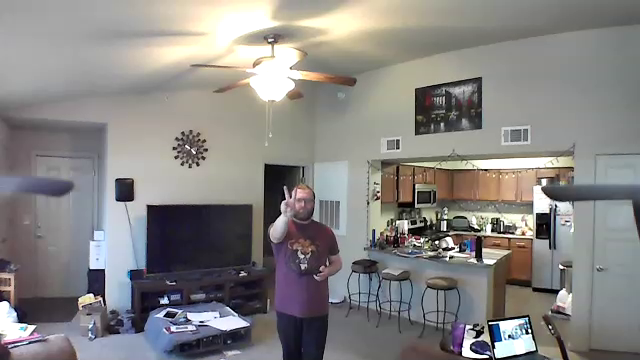peace: (276, 182, 301, 218)
